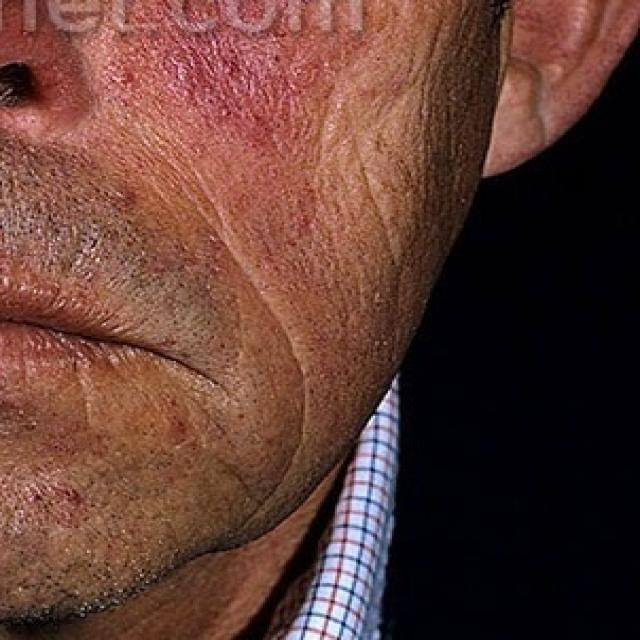Rosacea: (146, 26, 305, 166)
